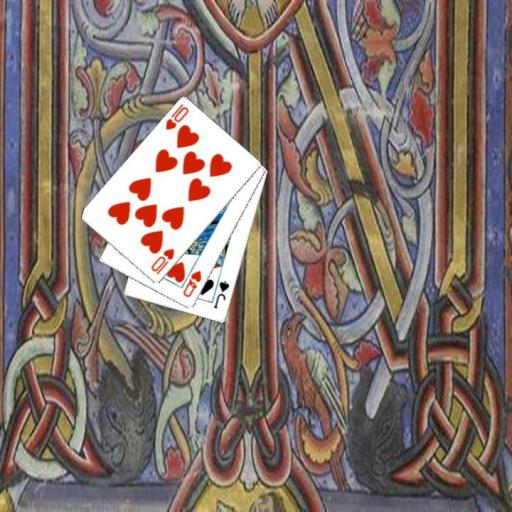10H: (162, 101, 191, 132), (148, 245, 176, 277)
JS: (211, 278, 231, 310)
QH: (180, 268, 203, 300)
